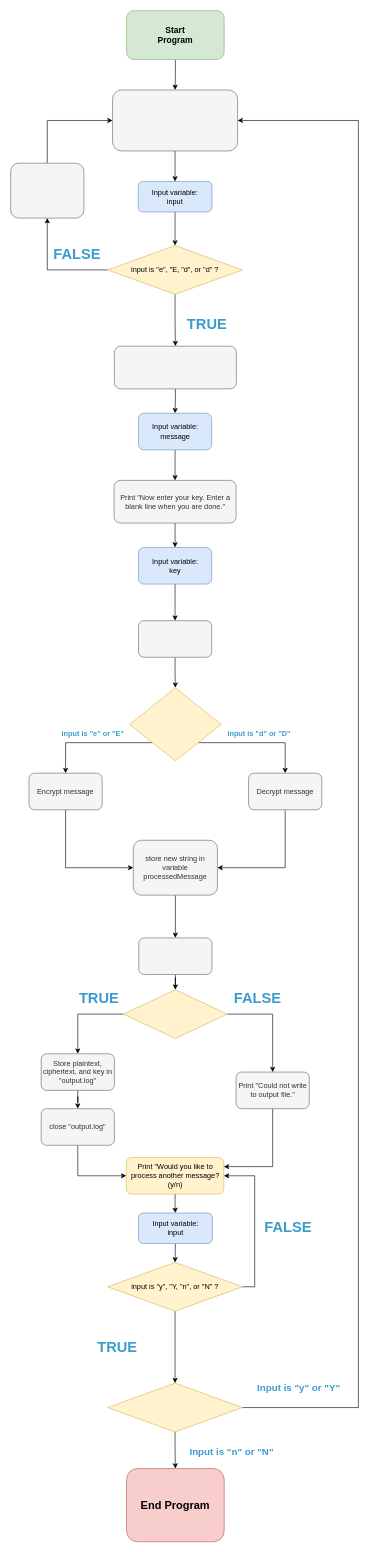
This 374x1552 diagram has some shape labels left out. The shapes that lost their labels are listed below. From the top down, each one's box as (x1, y1, x2, y2) in pixels, then its label:
(112, 89, 238, 151): Print "Would you like to encrypt or decrypt a message? (Enter 'e' or 'd')"
(10, 163, 84, 218): Print "You did not enter 'e' or 'd'"
(114, 346, 236, 389): Print "Enter your message. When you are done, press enter on a blank line."
(138, 620, 212, 657): open file "output.log"
(129, 687, 221, 761): Check value of input
(138, 937, 212, 974): Print processedMessage to console
(123, 989, 227, 1039): "output.log" is open?
(107, 1383, 242, 1432): Value of input?
